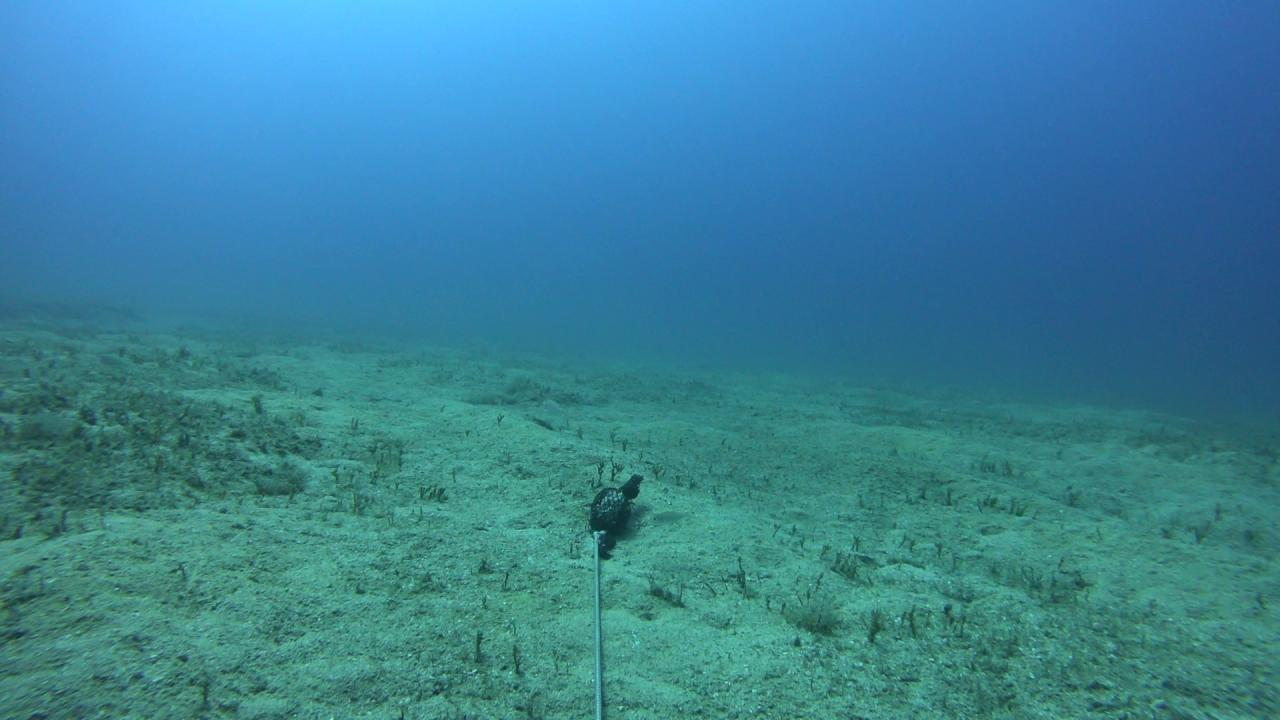pagellus: (648, 509, 693, 527)
